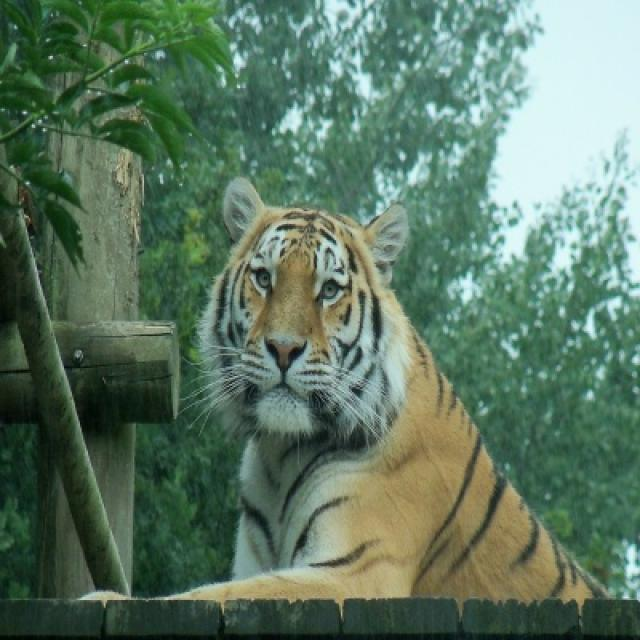Tiger: (98, 180, 606, 600)
